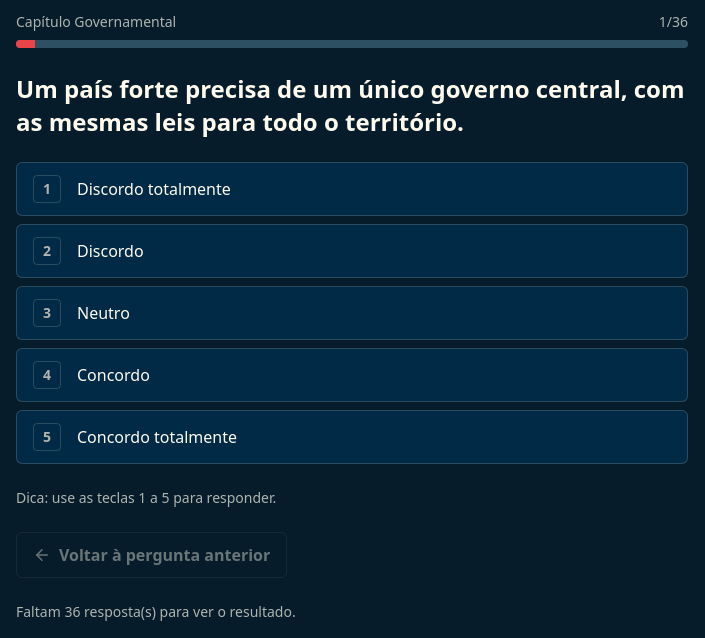
Test: Quiz › o botão voltar mostra a pergunta anterior com a resposta marcada
This screenshot has width=705, height=638.
Expected: the button "Voltar à pergunta anterior" is disabled, left=16, top=532, right=287, bottom=578
Type keys "5"
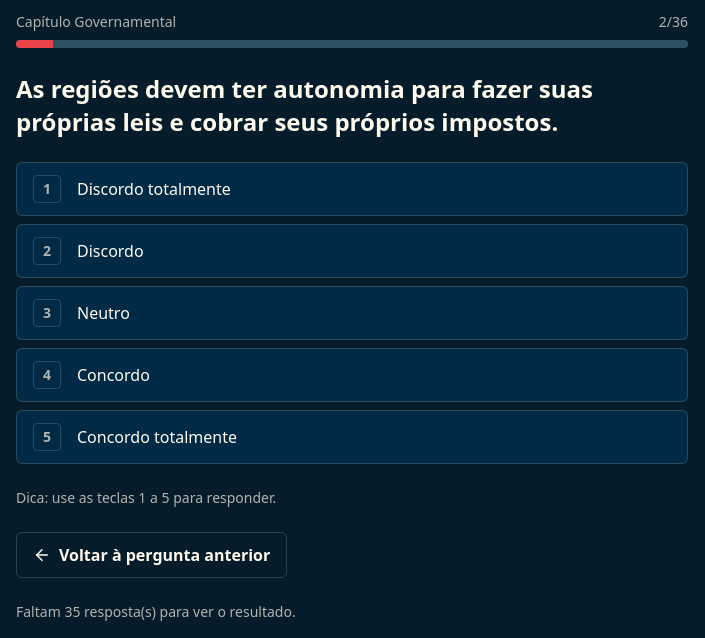
Click the button "Voltar à pergunta anterior".
click(152, 555)  # box left=16, top=532, right=287, bottom=578
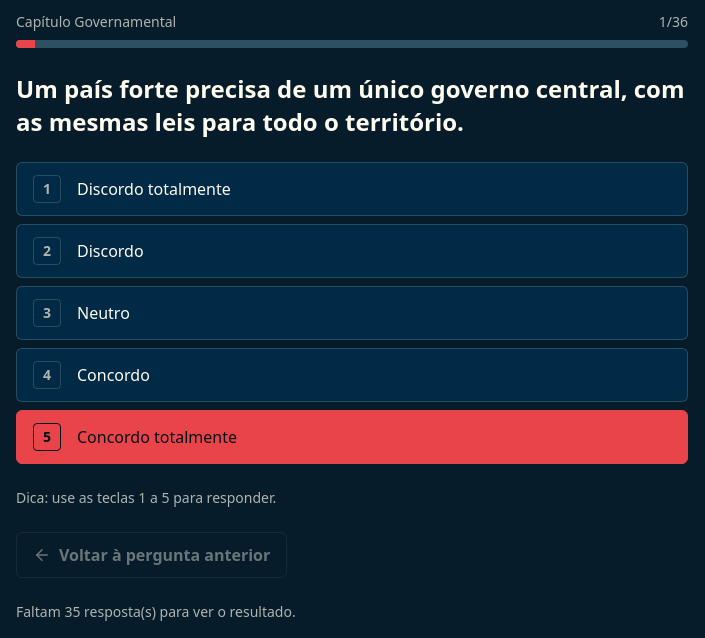
Expected: the text "1/36" is shown, left=659, top=12, right=688, bottom=32
